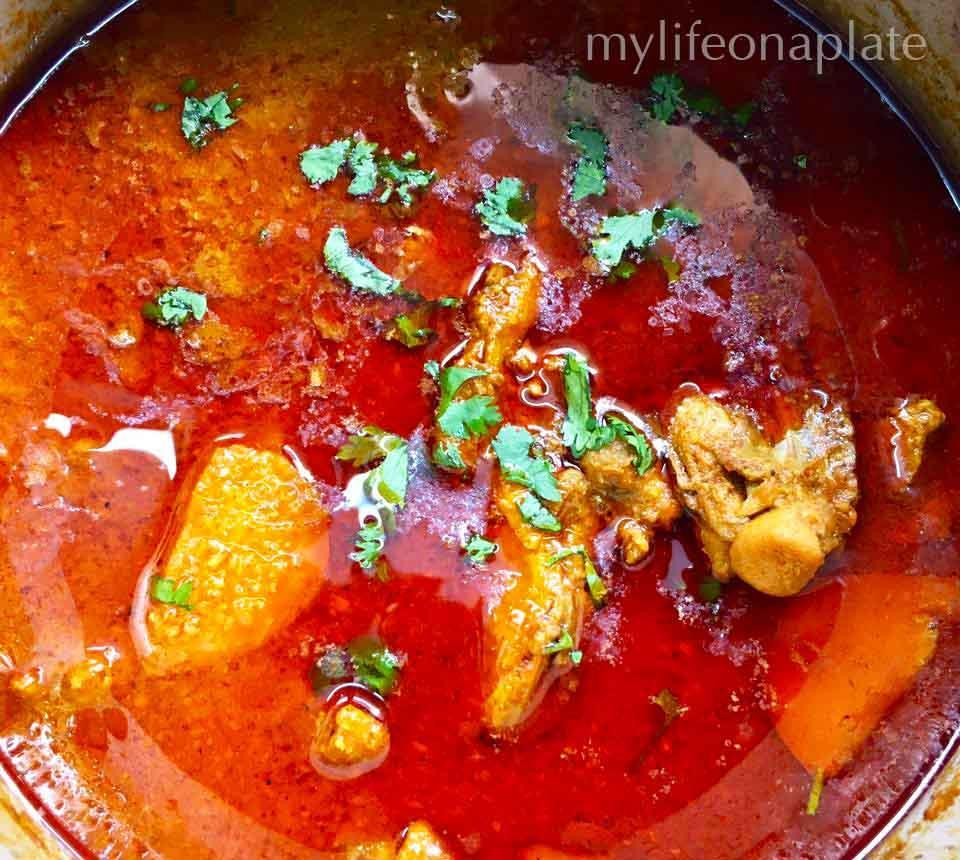chicken: (38, 51, 960, 860)
